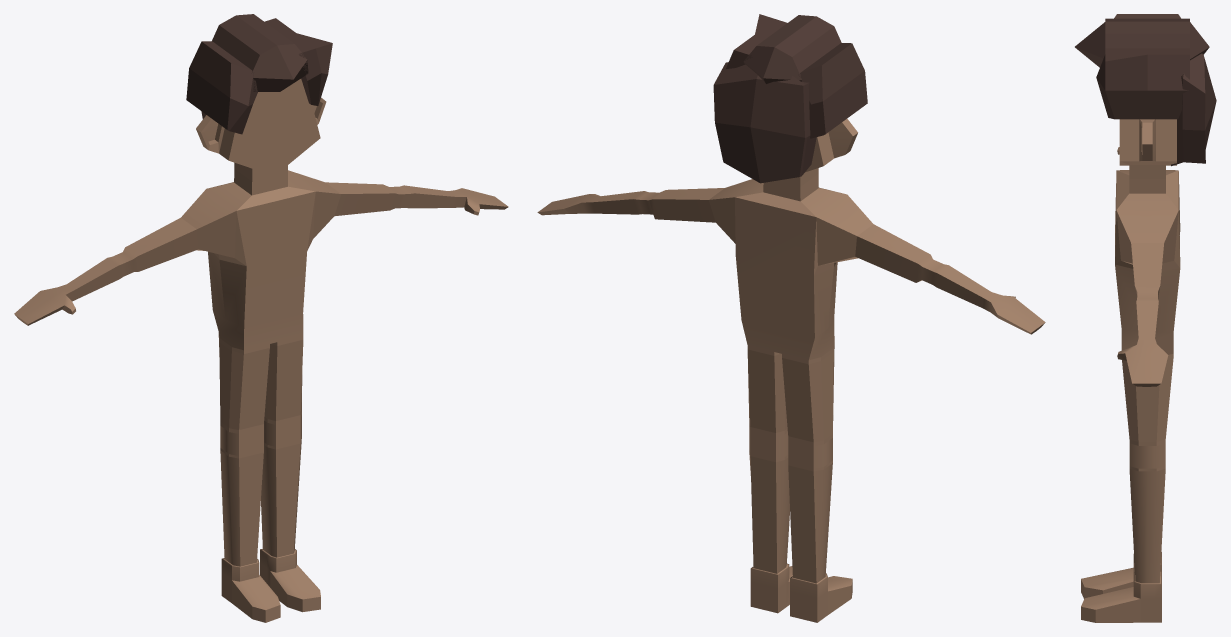
File: BoyBrownHair.fbx
The picture shows the model from 3 angles, left to right: view 1: azimuth 30°, elevation 25°; view 2: azimuth 150°, elevation 25°; view 3: azimuth 270°, elevation 25°; orthographic projection. The views are drawn at different scales.
Visible parts, largest first — view 1: MaleBody, pCube2, pCube4, pCube3; view 2: MaleBody, pCube5, pCube2, pCube4, pCube3; view 3: MaleBody, pCube3, pCube4, pCube5, pCube2.
Boxes of the visible parts, left/top/right/bottom form: MaleBody: left=14, top=79, right=508, bottom=622; pCube2: left=186, top=41, right=257, bottom=134; pCube4: left=212, top=14, right=308, bottom=91; pCube3: left=264, top=18, right=332, bottom=105; MaleBody: left=537, top=119, right=1045, bottom=622; pCube5: left=713, top=62, right=816, bottom=183; pCube2: left=799, top=43, right=867, bottom=138; pCube4: left=743, top=15, right=841, bottom=83; pCube3: left=726, top=14, right=787, bottom=68; MaleBody: left=1081, top=119, right=1180, bottom=622; pCube3: left=1096, top=48, right=1189, bottom=119; pCube4: left=1075, top=18, right=1209, bottom=67; pCube5: left=1171, top=53, right=1216, bottom=166; pCube2: left=1114, top=14, right=1180, bottom=18.
Size of the model in its own units: 49.75 by 55.74 by 12.34.
